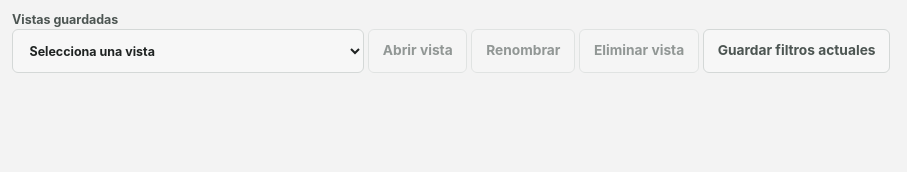
Scenario: saved transaction views panel › keeps the rename target fixed while the view selector is locked
This screenshot has width=907, height=172.
Later steps or results of the test are not shown.
Select "Vista A" in the dropdown labelled "Vistas guardadas" at (188, 51), box [12,29,364,73]
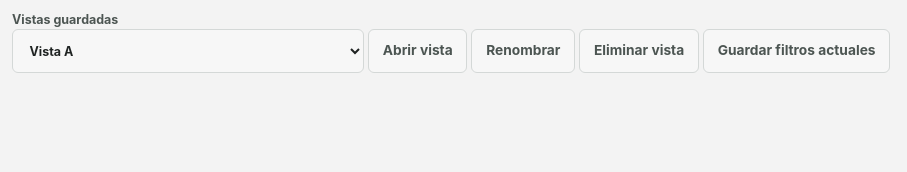
Click the button "Renombrar" at (523, 51), box [471,29,575,73]
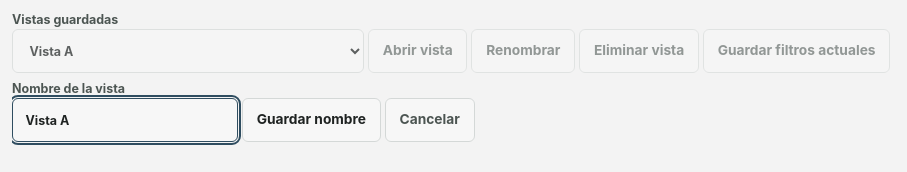
Now the dropdown labelled "Vistas guardadas" is disabled, box [12,29,364,73]
